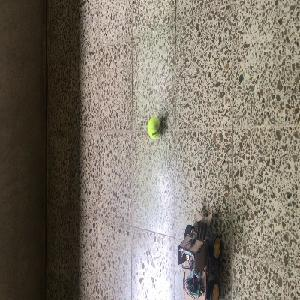Ball: (146, 117, 161, 139)
Robot: (176, 202, 221, 299)
